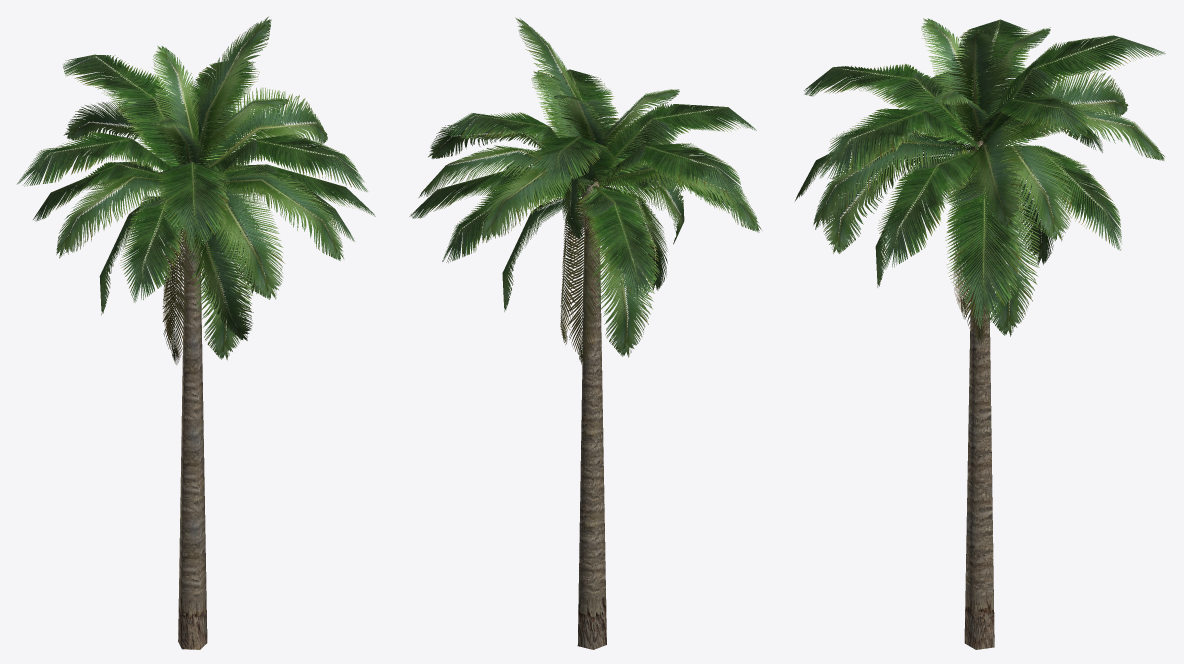
The model's file is palm.obj.
3 renders of one model, left to right at view 1: azimuth 30°, elevation 25°; view 2: azimuth 150°, elevation 25°; view 3: azimuth 270°, elevation 25°, orthographic. The views are drawn at different scales.
Visible parts, largest first — view 1: branches, trunk; view 2: branches, trunk; view 3: branches, trunk.
Part boxes in pixels (x1=…): branches: x1=16, y1=16, x2=375, y2=364; trunk: x1=178, y1=179, x2=207, y2=649; branches: x1=409, y1=17, x2=761, y2=366; trunk: x1=577, y1=178, x2=606, y2=649; branches: x1=795, y1=18, x2=1165, y2=345; trunk: x1=964, y1=140, x2=994, y2=649.
Size of the model in its own units: 65.82 by 109 by 56.92.
Materials: 2 (2 with a texture image).
